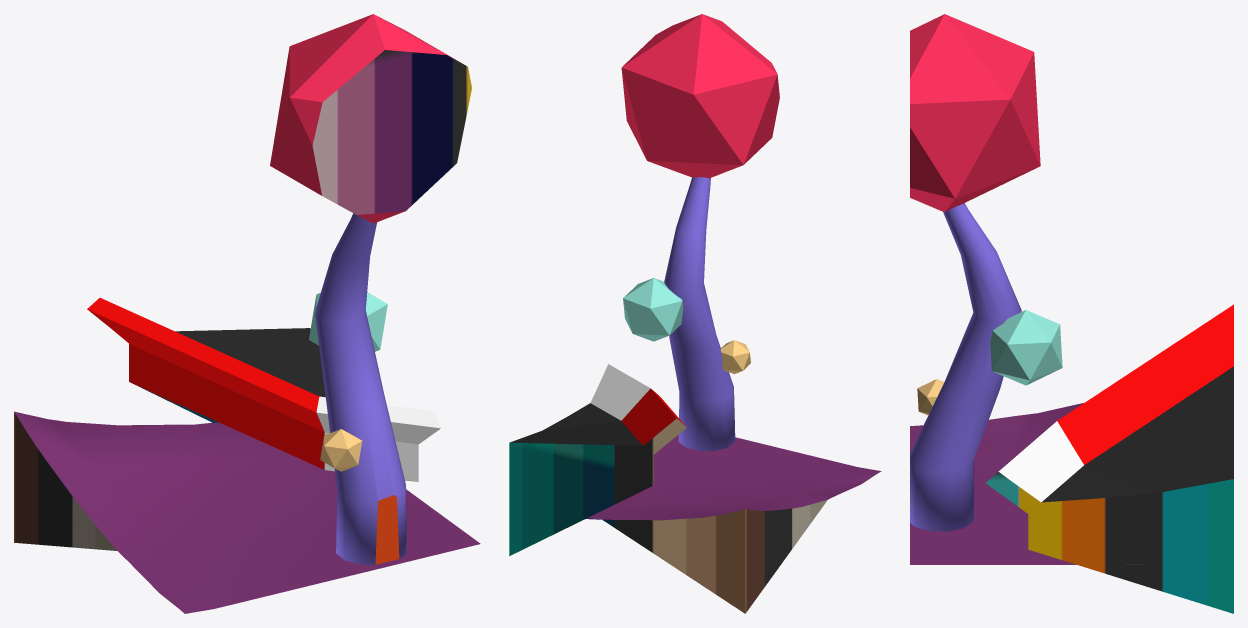
File: tile_17_0_1.gltf
3 renders of one model, left to right at view 1: azimuth 30°, elevation 25°; view 2: azimuth 150°, elevation 25°; view 3: azimuth 270°, elevation 25°, orthographic. The views are drawn at different scales.
Visible parts, largest first — view 1: Plane, Cylinder.073, track.206, Cylinder.012, Cylinder.075, Cylinder.074; view 2: Plane, Cylinder.073, track.206, Cylinder.012, Cylinder.074, Cylinder.075; view 3: track.206, Cylinder.073, Cylinder.012, Plane, Cylinder.074, Cylinder.075.
Boxes of the visible parts, left/top/right/bottom form: Plane: left=14, top=411, right=480, bottom=613; Cylinder.073: left=270, top=14, right=471, bottom=223; track.206: left=87, top=298, right=440, bottom=481; Cylinder.012: left=315, top=213, right=406, bottom=564; Cylinder.075: left=320, top=429, right=362, bottom=471; Cylinder.074: left=309, top=292, right=387, bottom=351; Plane: left=547, top=435, right=881, bottom=613; Cylinder.073: left=621, top=14, right=779, bottom=178; track.206: left=509, top=364, right=686, bottom=555; Cylinder.012: left=664, top=177, right=735, bottom=450; Cylinder.074: left=623, top=278, right=683, bottom=341; Cylinder.075: left=720, top=340, right=750, bottom=373; track.206: left=986, top=304, right=1233, bottom=613; Cylinder.073: left=910, top=14, right=1040, bottom=211; Cylinder.012: left=910, top=203, right=1021, bottom=531; Plane: left=910, top=402, right=1141, bottom=564; Cylinder.074: left=990, top=310, right=1062, bottom=385; Cylinder.075: left=917, top=379, right=944, bottom=415.
Size of the model in its own units: 8 by 15.24 by 8.
1 material, 1 textured.
